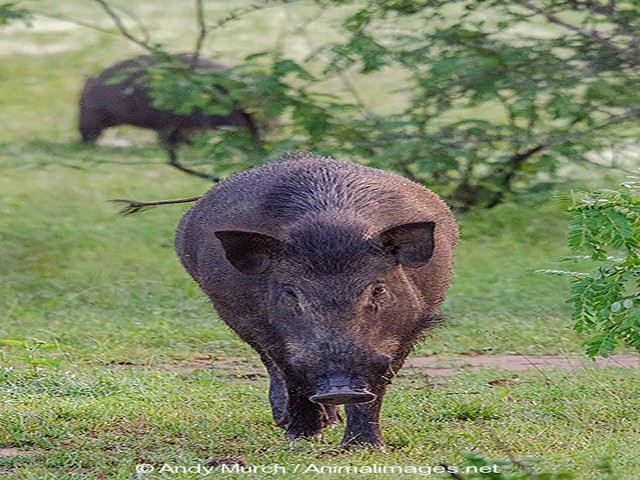Pig: (163, 156, 467, 449), (77, 51, 286, 146)
